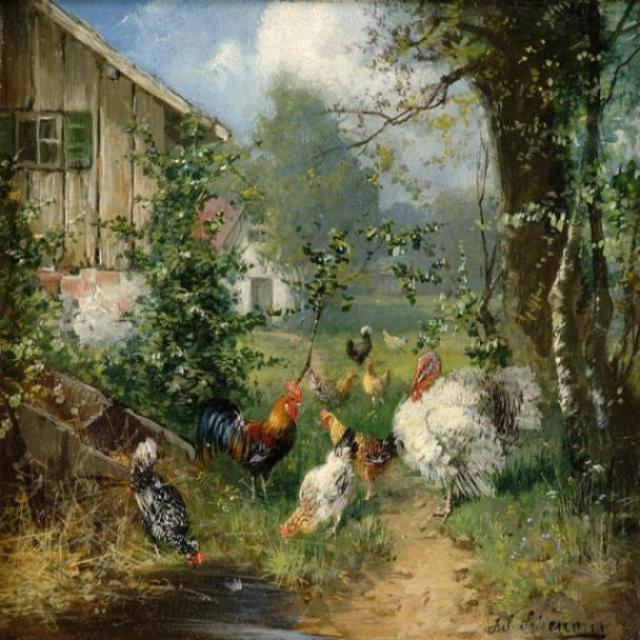Chicken: (196, 377, 304, 499), (130, 435, 203, 566), (281, 426, 360, 543), (321, 410, 406, 503), (306, 369, 358, 413), (364, 358, 390, 408), (347, 326, 373, 371)
